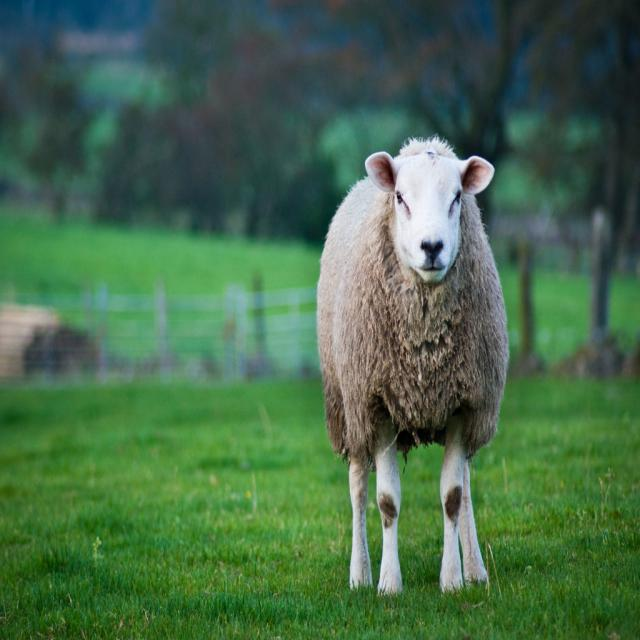Sheep: (324, 135, 496, 585)
